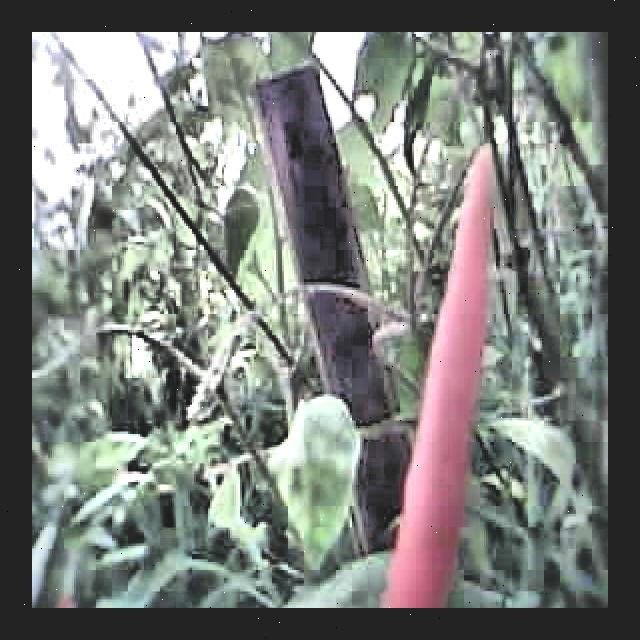Cabai: (393, 142, 502, 608)
